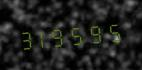five: (72, 19, 89, 48), (108, 16, 125, 45)
nine: (54, 21, 71, 49), (90, 18, 107, 46)
one: (35, 23, 52, 51)
three: (17, 24, 34, 53)
